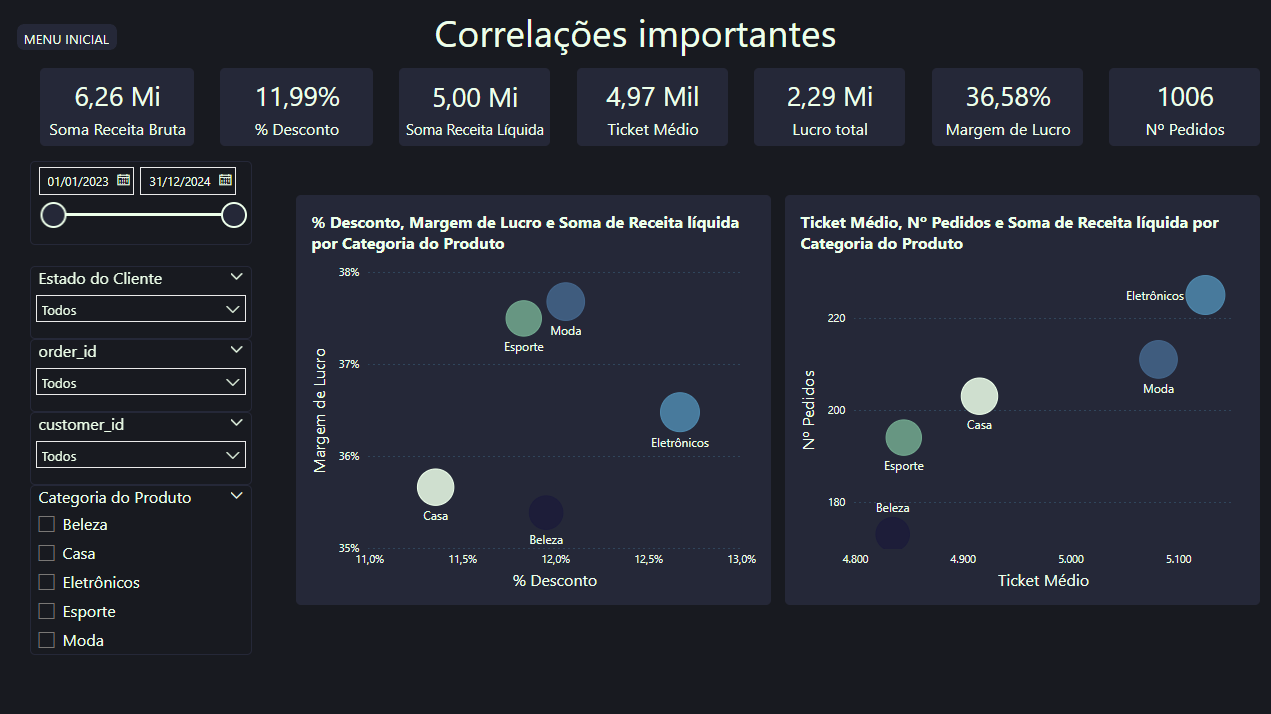

Layout of this report page (visuals, bound fields, positions):
{"tool":"powerbi","page":{"name":"Correlações importantes","canvas":[1280,720],"ordinal":4},"visuals":[{"type":"textbox","box":[396.5,9.9,486.9,57.3],"z":0},{"type":"scatterChart","fields":{"X":["ShopMax.% Desconto"],"Y":["ShopMax.Margem de Lucro"],"Size":["Sum(ShopMax.Receita líquida)"],"Series":["ShopMax.Categoria do Produto"]},"box":[296.3,163,475.1,253.8],"z":1000},{"type":"card","fields":{"Values":["ShopMax.Soma Receita Bruta"]},"box":[44.5,71.1,153.1,78],"z":2000},{"type":"card","fields":{"Values":["ShopMax.% Desconto"]},"box":[223.9,71.1,153.1,78],"z":3000},{"type":"card","fields":{"Values":["ShopMax.Soma Rceita Líquida"]},"box":[403.3,71.1,151.1,78],"z":4000},{"type":"card","fields":{"Values":["ShopMax.Lucro total"]},"box":[758.2,71.1,151.1,78],"z":5000},{"type":"card","fields":{"Values":["ShopMax.Margem de Lucro"]},"box":[935.6,71.1,151.1,78],"z":6000},{"type":"card","fields":{"Values":["ShopMax.Ticket Médio"]},"box":[580.7,71.1,151.1,78],"z":7000},{"type":"card","fields":{"Values":["ShopMax.Nº Pedidos"]},"box":[1113.1,71.1,151.1,78],"z":8000},{"type":"slicer","fields":{"Values":["ShopMax.order_date"]},"box":[33.6,163.9,222.2,84],"z":9000},{"type":"slicer","fields":{"Values":["ShopMax.Categoria do Produto"]},"box":[33.5,487.9,222.5,170.1],"z":10000},{"type":"slicer","fields":{"Values":["ShopMax.Estado do Cliente"]},"box":[33.6,268.6,222.2,73.1],"z":11000},{"type":"slicer","fields":{"Values":["ShopMax.order_id"]},"box":[33.6,341.7,222.2,73.1],"z":12000},{"type":"slicer","fields":{"Values":["ShopMax.customer_id"]},"box":[33.6,414.8,222.2,73.1],"z":13000},{"type":"scatterChart","fields":{"X":["ShopMax.Ticket Médio"],"Y":["ShopMax.Nº Pedidos"],"Size":["Sum(ShopMax.Receita líquida)"],"Series":["ShopMax.Categoria do Produto"]},"box":[789.1,164,475.1,253.8],"z":14000},{"type":"actionButton","box":[21.5,26.6,99.7,26.6],"z":15000}]}

Visuals, with their boxes in screenshot pixels (x1, y1, x2, y2), scaled from the page's 1280x720 canvas onto the 1271x714 screenshot:
textbox: rect(394, 10, 877, 67)
scatterChart - ShopMax.% Desconto x ShopMax.Margem de Lucro: rect(294, 162, 766, 413)
card - ShopMax.Soma Receita Bruta: rect(44, 71, 196, 148)
card - ShopMax.% Desconto: rect(222, 71, 374, 148)
card - ShopMax.Soma Rceita Líquida: rect(400, 71, 551, 148)
card - ShopMax.Lucro total: rect(753, 71, 903, 148)
card - ShopMax.Margem de Lucro: rect(929, 71, 1079, 148)
card - ShopMax.Ticket Médio: rect(577, 71, 727, 148)
card - ShopMax.Nº Pedidos: rect(1105, 71, 1255, 148)
slicer - ShopMax.order_date: rect(33, 163, 254, 246)
slicer - ShopMax.Categoria do Produto: rect(33, 484, 254, 653)
slicer - ShopMax.Estado do Cliente: rect(33, 266, 254, 339)
slicer - ShopMax.order_id: rect(33, 339, 254, 411)
slicer - ShopMax.customer_id: rect(33, 411, 254, 484)
scatterChart - ShopMax.Ticket Médio x ShopMax.Nº Pedidos: rect(784, 163, 1255, 414)
actionButton: rect(21, 26, 120, 53)
